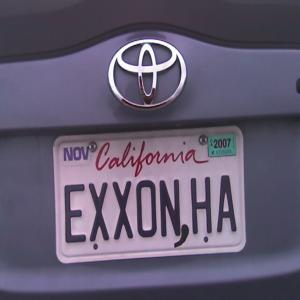Vehicle-registration-plate: (54, 126, 248, 267)
